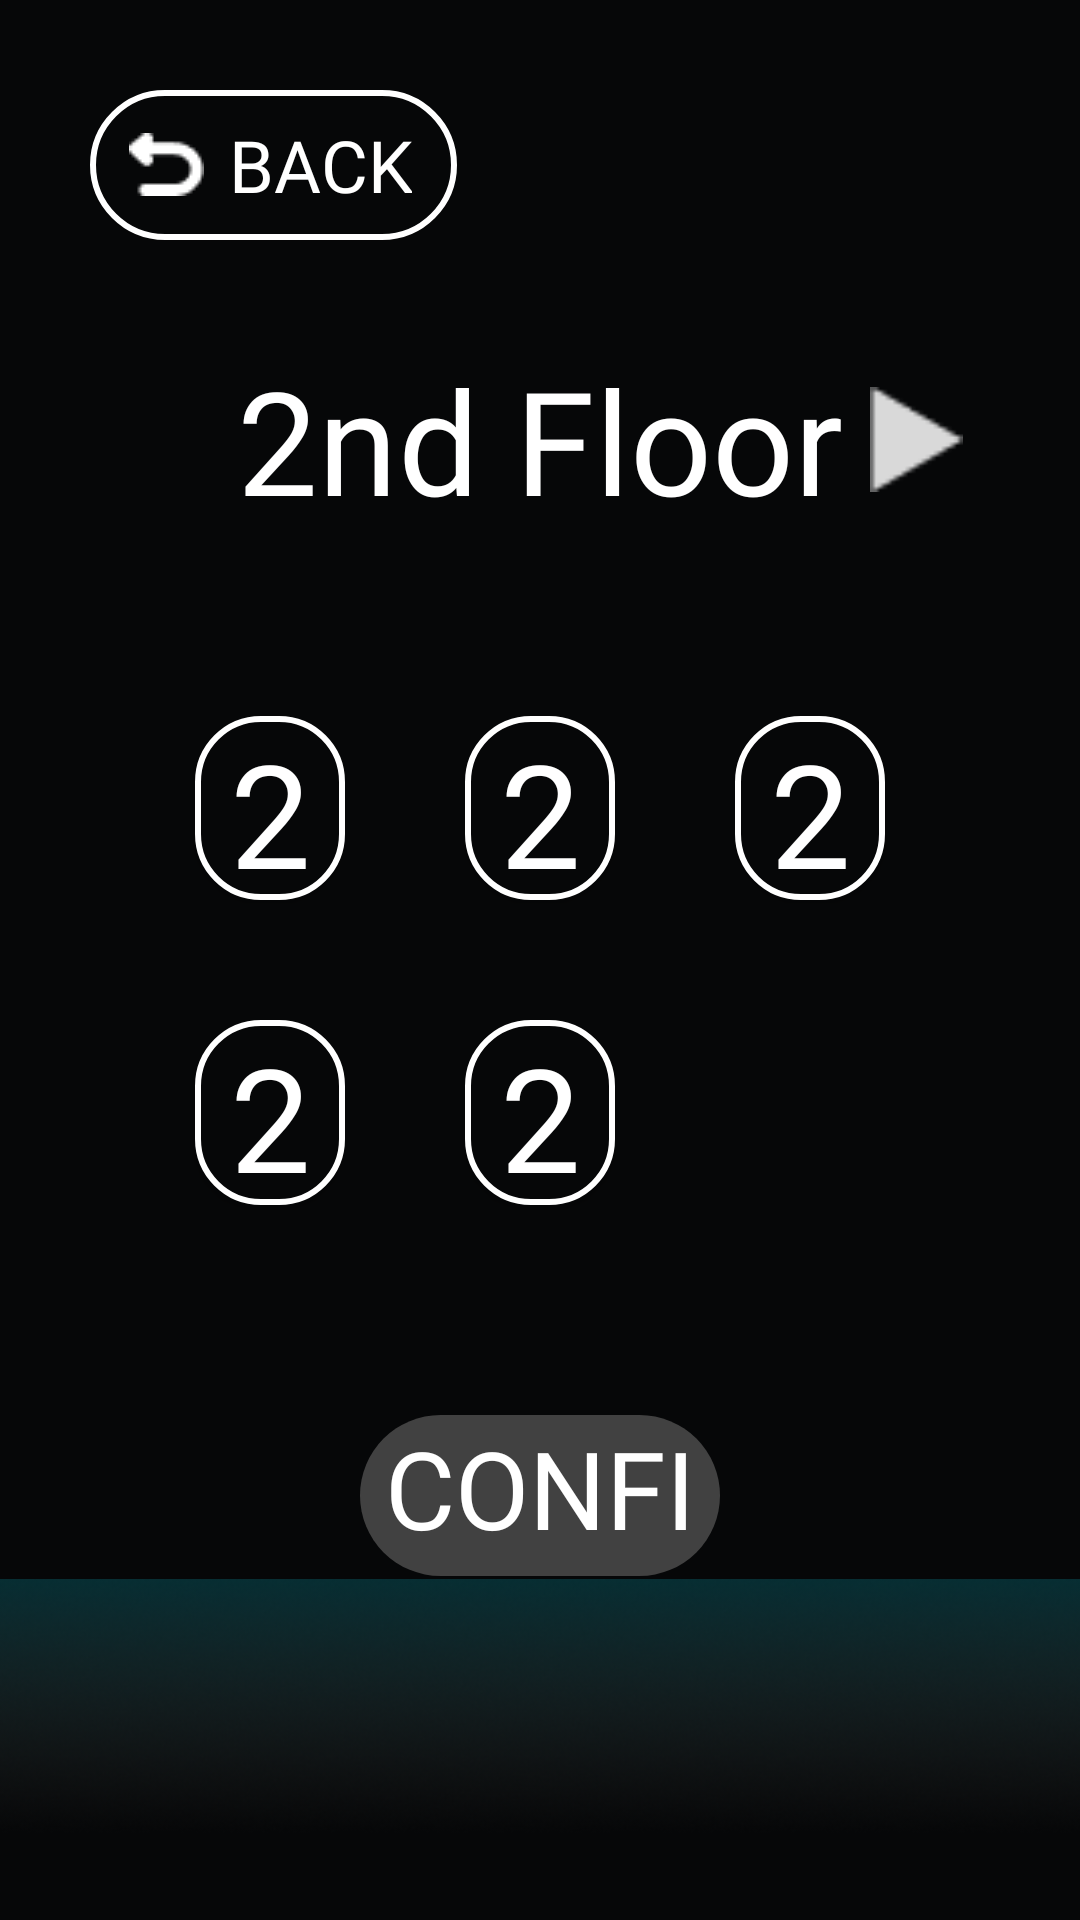

Locate icon controls on the screen. Image size 1080 x 1920, boxes as Rect(x1, y1, x2, y2).
next: Rect(870, 387, 963, 492)
